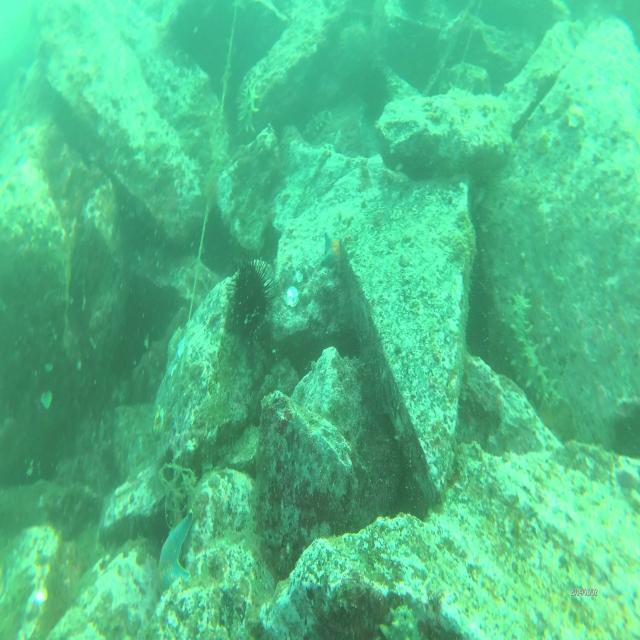echinus: (226, 259, 274, 344)
holothurian: (499, 282, 558, 413), (237, 67, 262, 143), (380, 599, 422, 640), (304, 103, 333, 139)
starfish: (158, 506, 194, 586), (320, 225, 344, 273)
